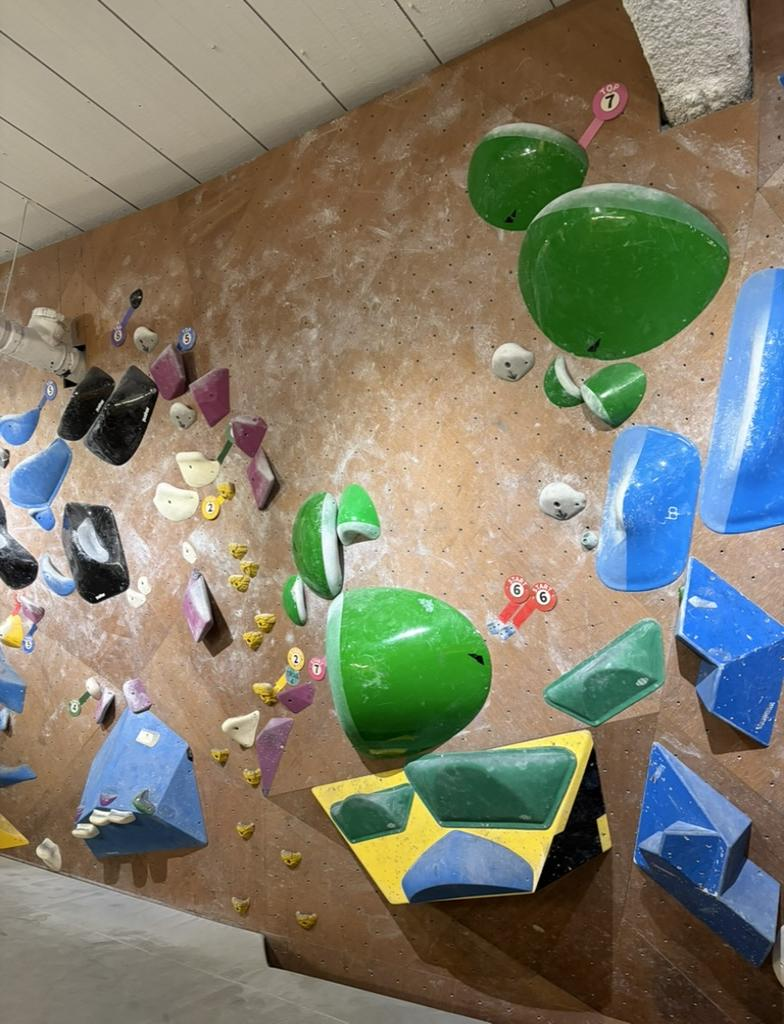crimp: (126, 589, 144, 607), (498, 623, 514, 639), (488, 618, 501, 634), (139, 576, 150, 594)
downhold: (540, 481, 584, 520), (492, 343, 534, 380), (169, 401, 194, 428), (135, 326, 158, 352)
jib: (583, 530, 597, 549)
jug: (191, 370, 229, 425), (150, 344, 185, 399), (153, 483, 198, 520), (176, 452, 219, 486), (231, 415, 265, 456), (223, 710, 259, 748), (30, 506, 54, 528), (252, 684, 277, 705), (243, 630, 263, 650), (254, 614, 275, 632), (281, 849, 300, 868), (229, 576, 248, 592), (211, 749, 228, 765), (237, 823, 254, 839), (230, 543, 247, 559), (244, 768, 259, 786), (242, 561, 257, 577), (183, 542, 194, 563)
ledge: (520, 184, 728, 360), (407, 747, 576, 828), (468, 123, 587, 230), (544, 619, 664, 724), (331, 784, 413, 842), (11, 438, 70, 509)
sidepull: (326, 587, 489, 757), (699, 268, 783, 533), (597, 426, 700, 591), (85, 366, 157, 465), (63, 502, 129, 603), (292, 492, 342, 598), (58, 366, 112, 440), (582, 363, 645, 426), (544, 356, 582, 407), (247, 447, 275, 508), (283, 575, 306, 625)
tape: (579, 83, 627, 148), (512, 584, 554, 628), (499, 575, 530, 623), (273, 648, 304, 696), (110, 305, 132, 346), (201, 496, 223, 520), (217, 435, 233, 464), (177, 328, 195, 351), (309, 657, 325, 680)
undercling: (337, 485, 378, 545), (183, 571, 212, 641)
volume: (313, 730, 610, 903), (635, 743, 779, 965), (676, 557, 783, 744), (76, 709, 206, 858)
